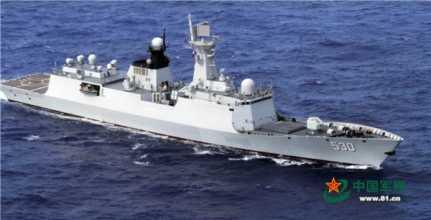warship: (1, 14, 405, 169)
